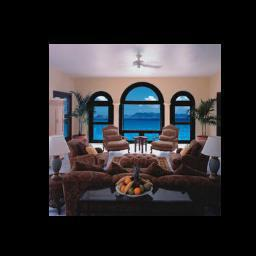Matera: (71, 88, 91, 140), (193, 96, 215, 142)
